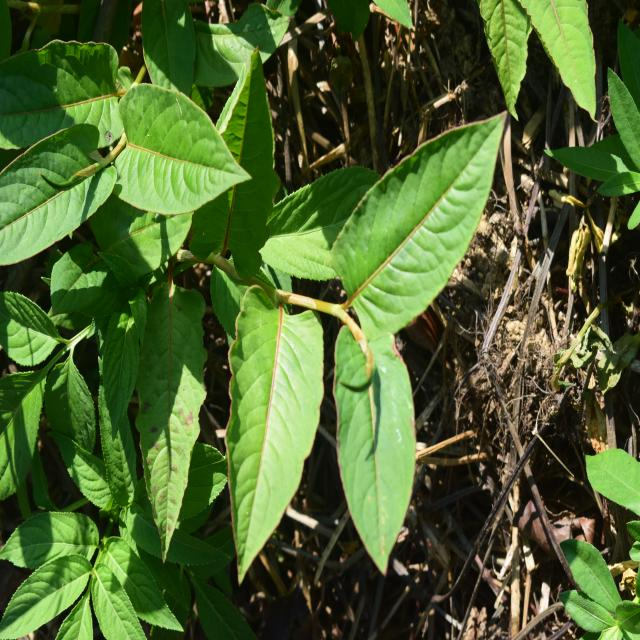Chinese_knotweed: (215, 133, 481, 562), (0, 20, 215, 278)
